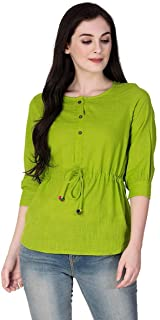tops: (11, 73, 160, 259)
